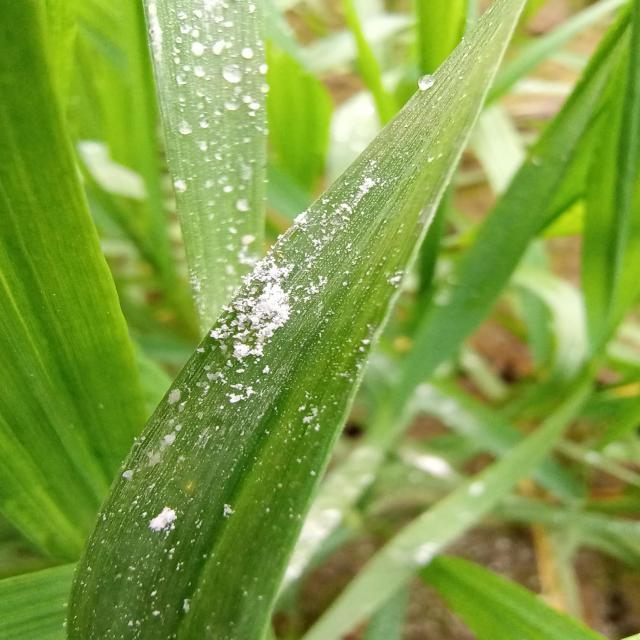Powdery_Mildew: (133, 0, 328, 556)
